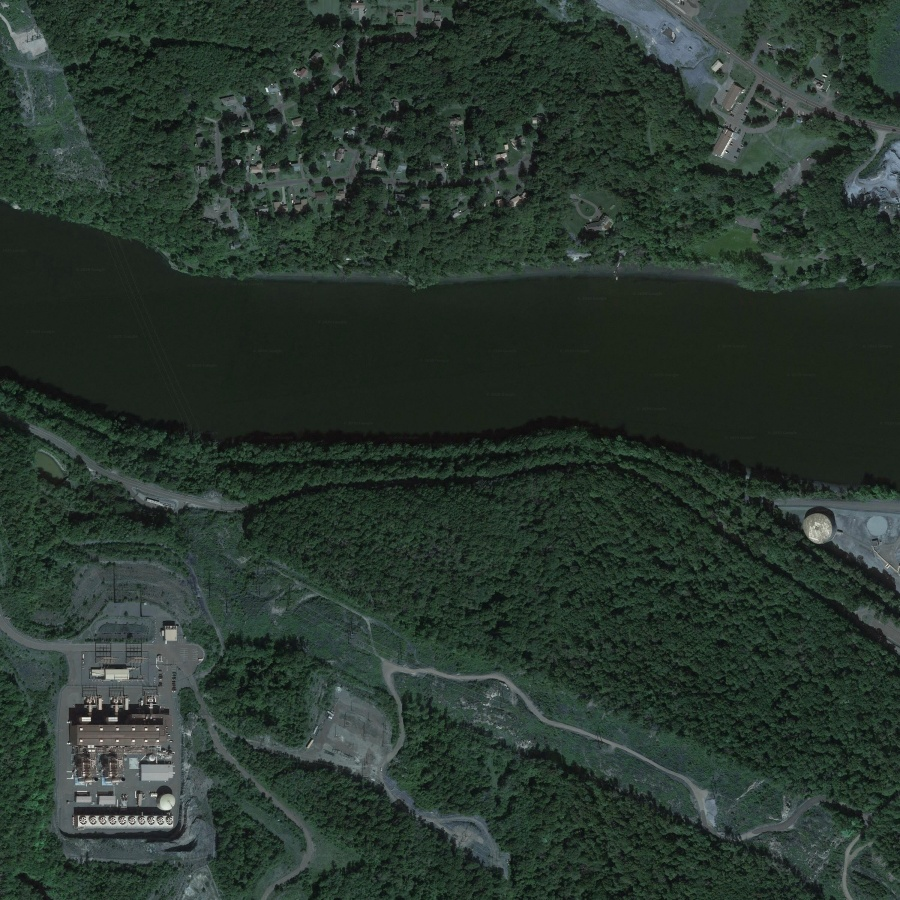PowerPlant: (60, 605, 206, 845)
